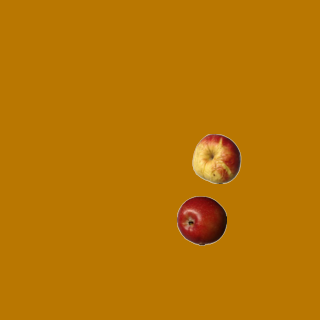Apple Braeburn: (176, 195, 226, 245)
Apple Red Yellow 1: (191, 133, 241, 183)
